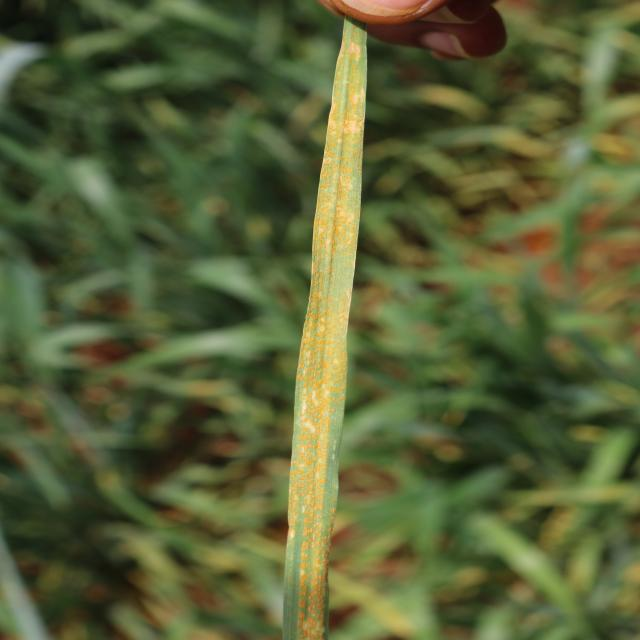Stripe Rust: (308, 294, 342, 500), (333, 45, 357, 245), (290, 502, 324, 640)
